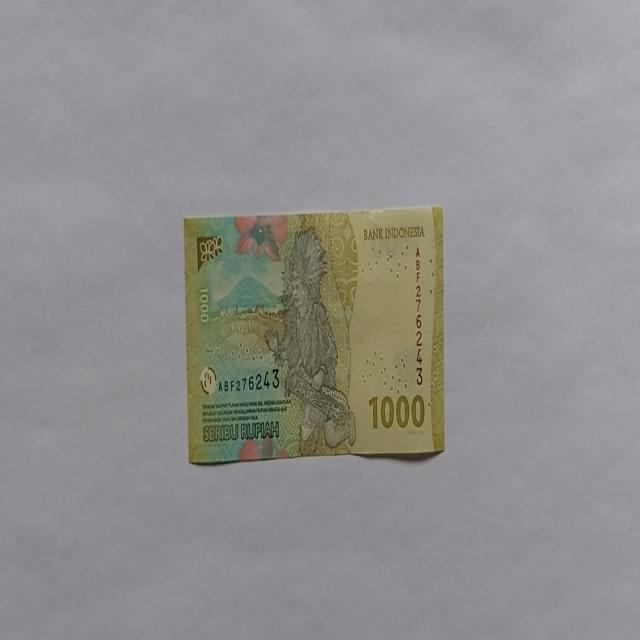seribu rupiah kertas: (182, 205, 446, 464)
